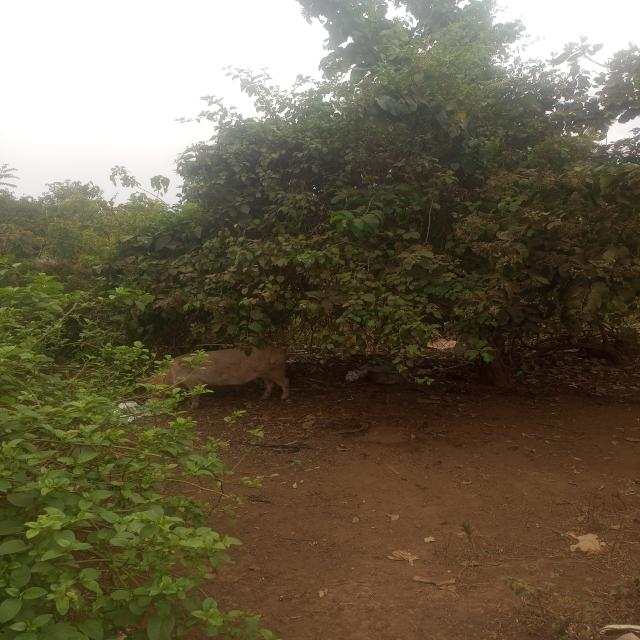pig: (110, 318, 335, 456)
